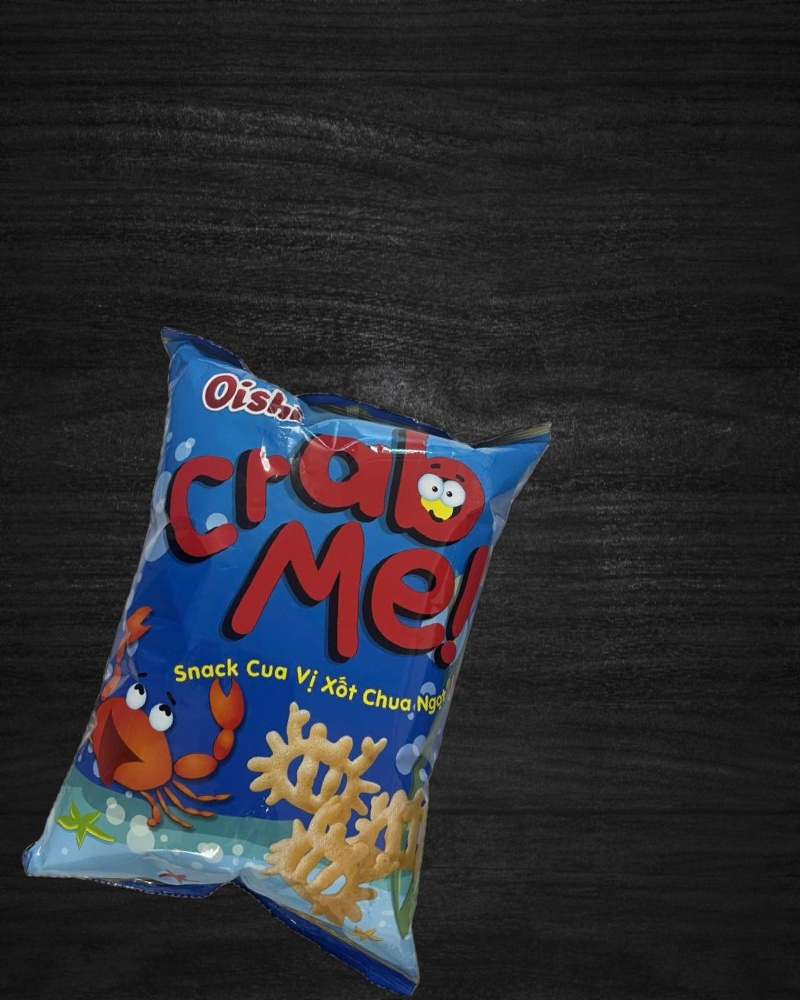Snack cua: (13, 319, 568, 993)
